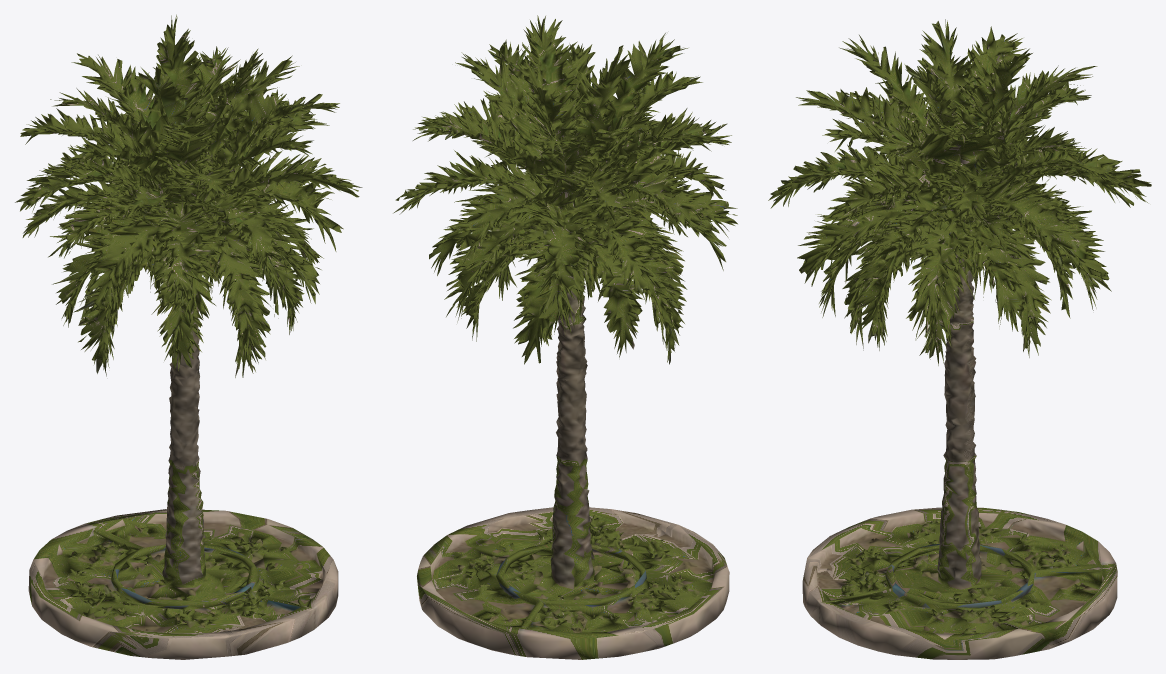
Rendered from palmbase.glb.
The picture shows the model from 3 angles, left to right: view 1: azimuth 30°, elevation 25°; view 2: azimuth 150°, elevation 25°; view 3: azimuth 270°, elevation 25°; orthographic projection.
Size of the model in its own units: 1.07 by 1.9 by 1.18.
1 material, 1 textured.
